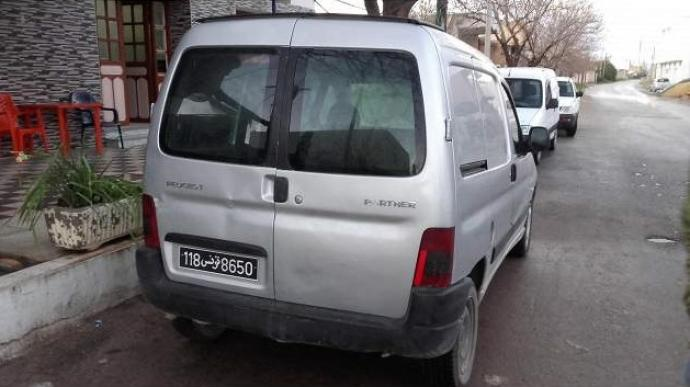LP: (174, 245, 262, 286)
